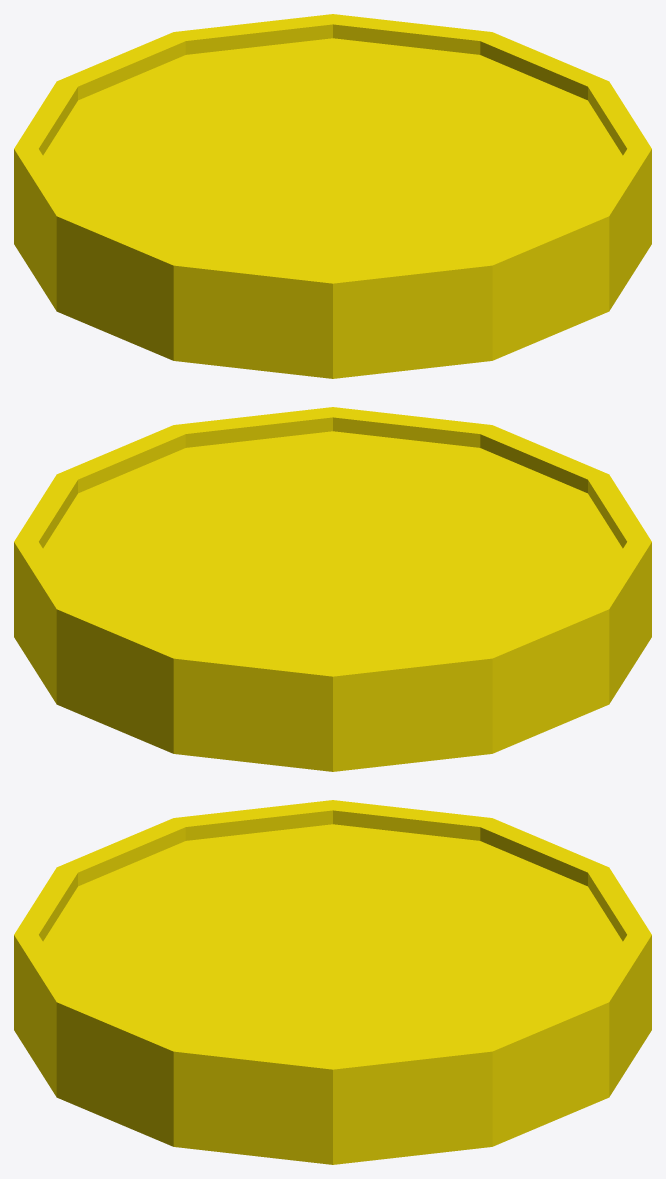
File: Coin_01.fbx
3 views of the same model, one above another, from view 1: azimuth 30°, elevation 25°; view 2: azimuth 150°, elevation 25°; view 3: azimuth 270°, elevation 25° (orthographic).
Visible parts, largest first — view 1: Coin_01; view 2: Coin_01; view 3: Coin_01.
Boxes of the visible parts, <box> form: Coin_01: <box>14,14,651,378</box>; Coin_01: <box>14,407,651,771</box>; Coin_01: <box>14,800,651,1164</box>.
Size of the model in its own units: 2.56 by 0.4213 by 2.56.
